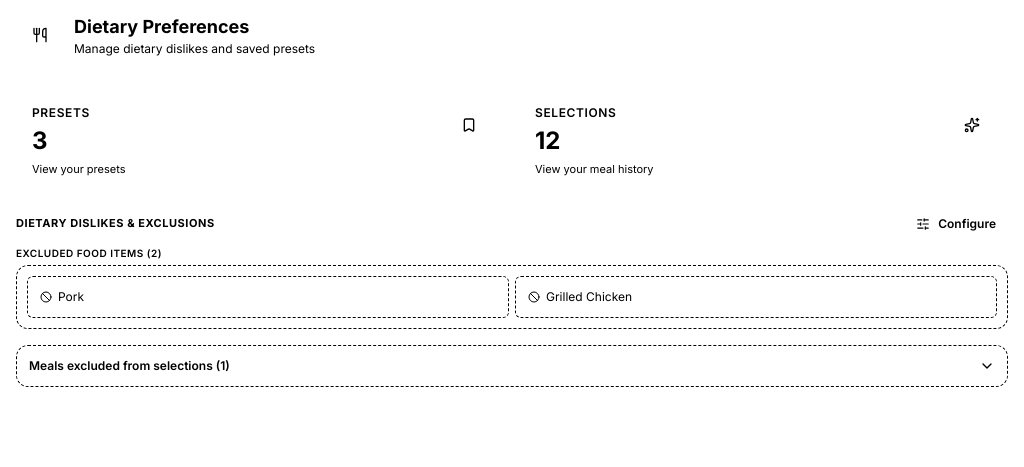
Test: AccountPreferencesCard Component › renders preference summary, disliked ingredients and dishes
Expected: the heading "Dietary Preferences" is shown, 74,16 -> 249,37
Expected: the text "Pork" is shown, 58,288 -> 84,304
What coordinates should you click on to do the following:
click the button "Meals excluded from selections (1)"
I would click on:
 (125, 365)
Its box is 17,346 -> 1007,386.
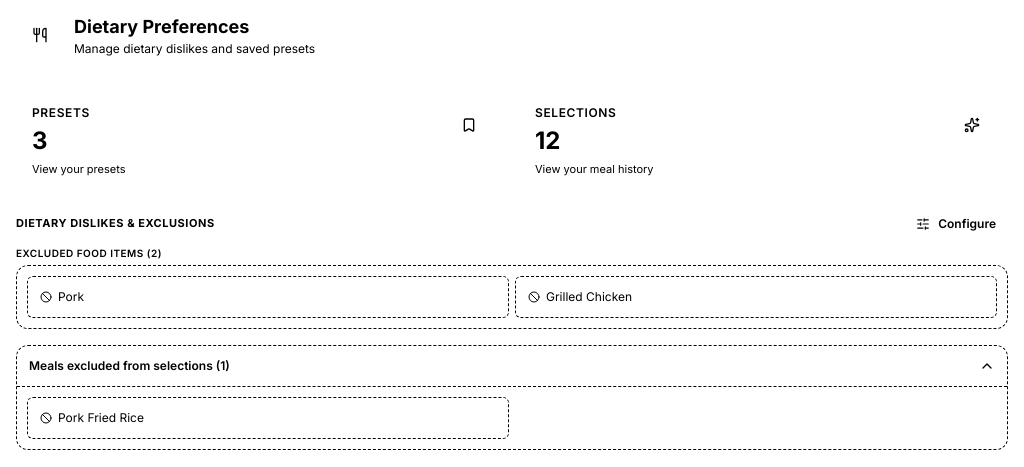
Result: the text "Pork Fried Rice" is shown at 58,410 -> 144,426
